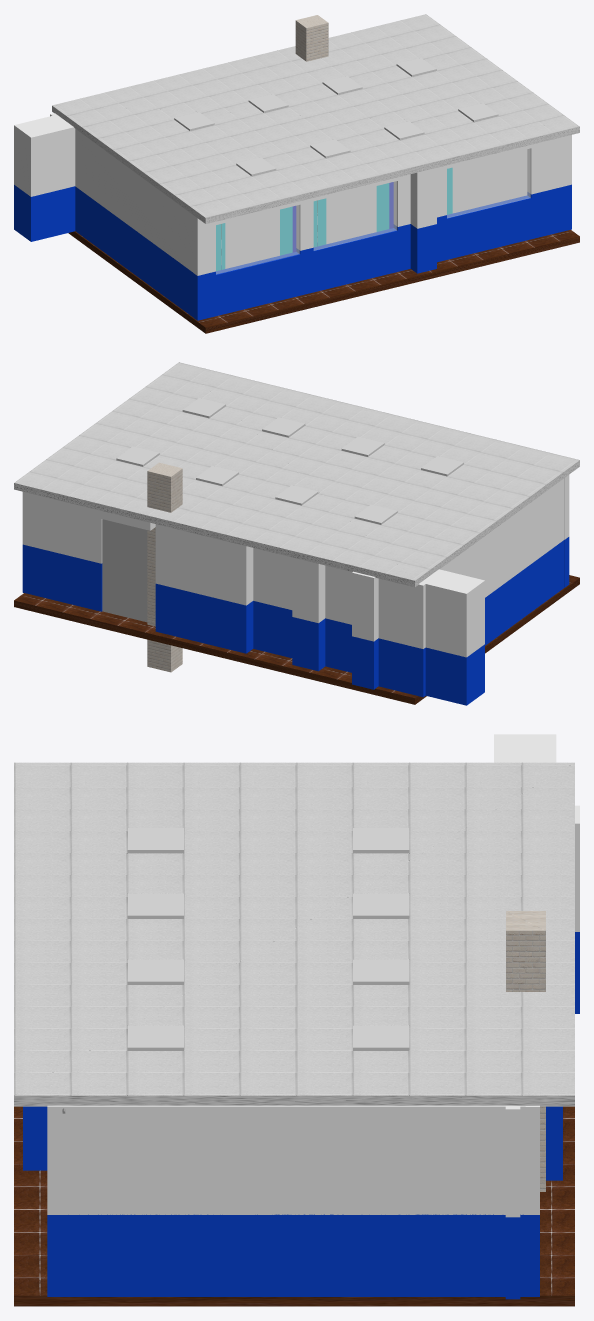
Rendered from офис 5.fbx.
3 renders of one model, top to bottom at view 1: azimuth 30°, elevation 25°; view 2: azimuth 150°, elevation 25°; view 3: azimuth 270°, elevation 25°, orthographic. The views are drawn at different scales.
Visible parts, largest first — view 1: Cube.005, Cube.004, Cube.006, Cube.028, Cube.002, Cube, Cube.013, Куб.143, Куб.283, Куб.282, Cube.014, Cube.009 (+10 smaller); view 2: Cube.005, Cube.007, Cube.001, Cube.028, Cube.006, Cube.021, Cube.022, Cube.013, Куб.008, Cube, Куб.319, Cube.011 (+15 smaller); view 3: Cube.005, Cube.003, Cube.008, Cube.028, Куб.319, Cube.013, Cube.026, Cube.002, Cube.007, Cube.010, Куб, Куб.001 (+10 smaller).
Part boxes in pixels (x1,y1,x2,y2): Cube.005: [52, 14, 579, 223]; Cube.004: [193, 184, 571, 320]; Cube.006: [75, 129, 193, 272]; Cube.028: [68, 229, 579, 333]; Cube.002: [193, 135, 571, 275]; Cube: [75, 186, 193, 317]; Cube.013: [14, 116, 75, 196]; Куб.143: [313, 181, 397, 250]; Куб.283: [447, 148, 530, 218]; Куб.282: [216, 205, 299, 274]; Cube.014: [14, 185, 75, 241]; Cube.009: [410, 168, 436, 228]; Cube.005: [14, 362, 579, 587]; Cube.007: [22, 492, 352, 624]; Cube.001: [22, 544, 351, 672]; Cube.028: [14, 575, 579, 704]; Cube.006: [440, 478, 564, 597]; Cube.021: [155, 524, 253, 605]; Cube.022: [155, 583, 253, 653]; Cube.013: [425, 569, 484, 657]; Куб.008: [102, 519, 147, 622]; Cube: [485, 540, 564, 645]; Куб.319: [147, 462, 182, 672]; Cube.011: [378, 571, 440, 648]; Cube.005: [14, 762, 574, 1106]; Cube.003: [61, 1105, 525, 1214]; Cube.008: [61, 1214, 525, 1296]; Cube.028: [14, 1106, 574, 1306]; Куб.319: [506, 911, 545, 1191]; Cube.013: [494, 734, 556, 762]; Cube.026: [505, 1105, 520, 1217]; Cube.002: [47, 1105, 61, 1214]; Cube.007: [525, 1105, 539, 1214]; Cube.010: [23, 1106, 47, 1170]; Куб: [353, 1025, 409, 1050]; Куб.001: [127, 1025, 183, 1050].
Size of the model in its own units: 2539 by 1049 by 1617.
